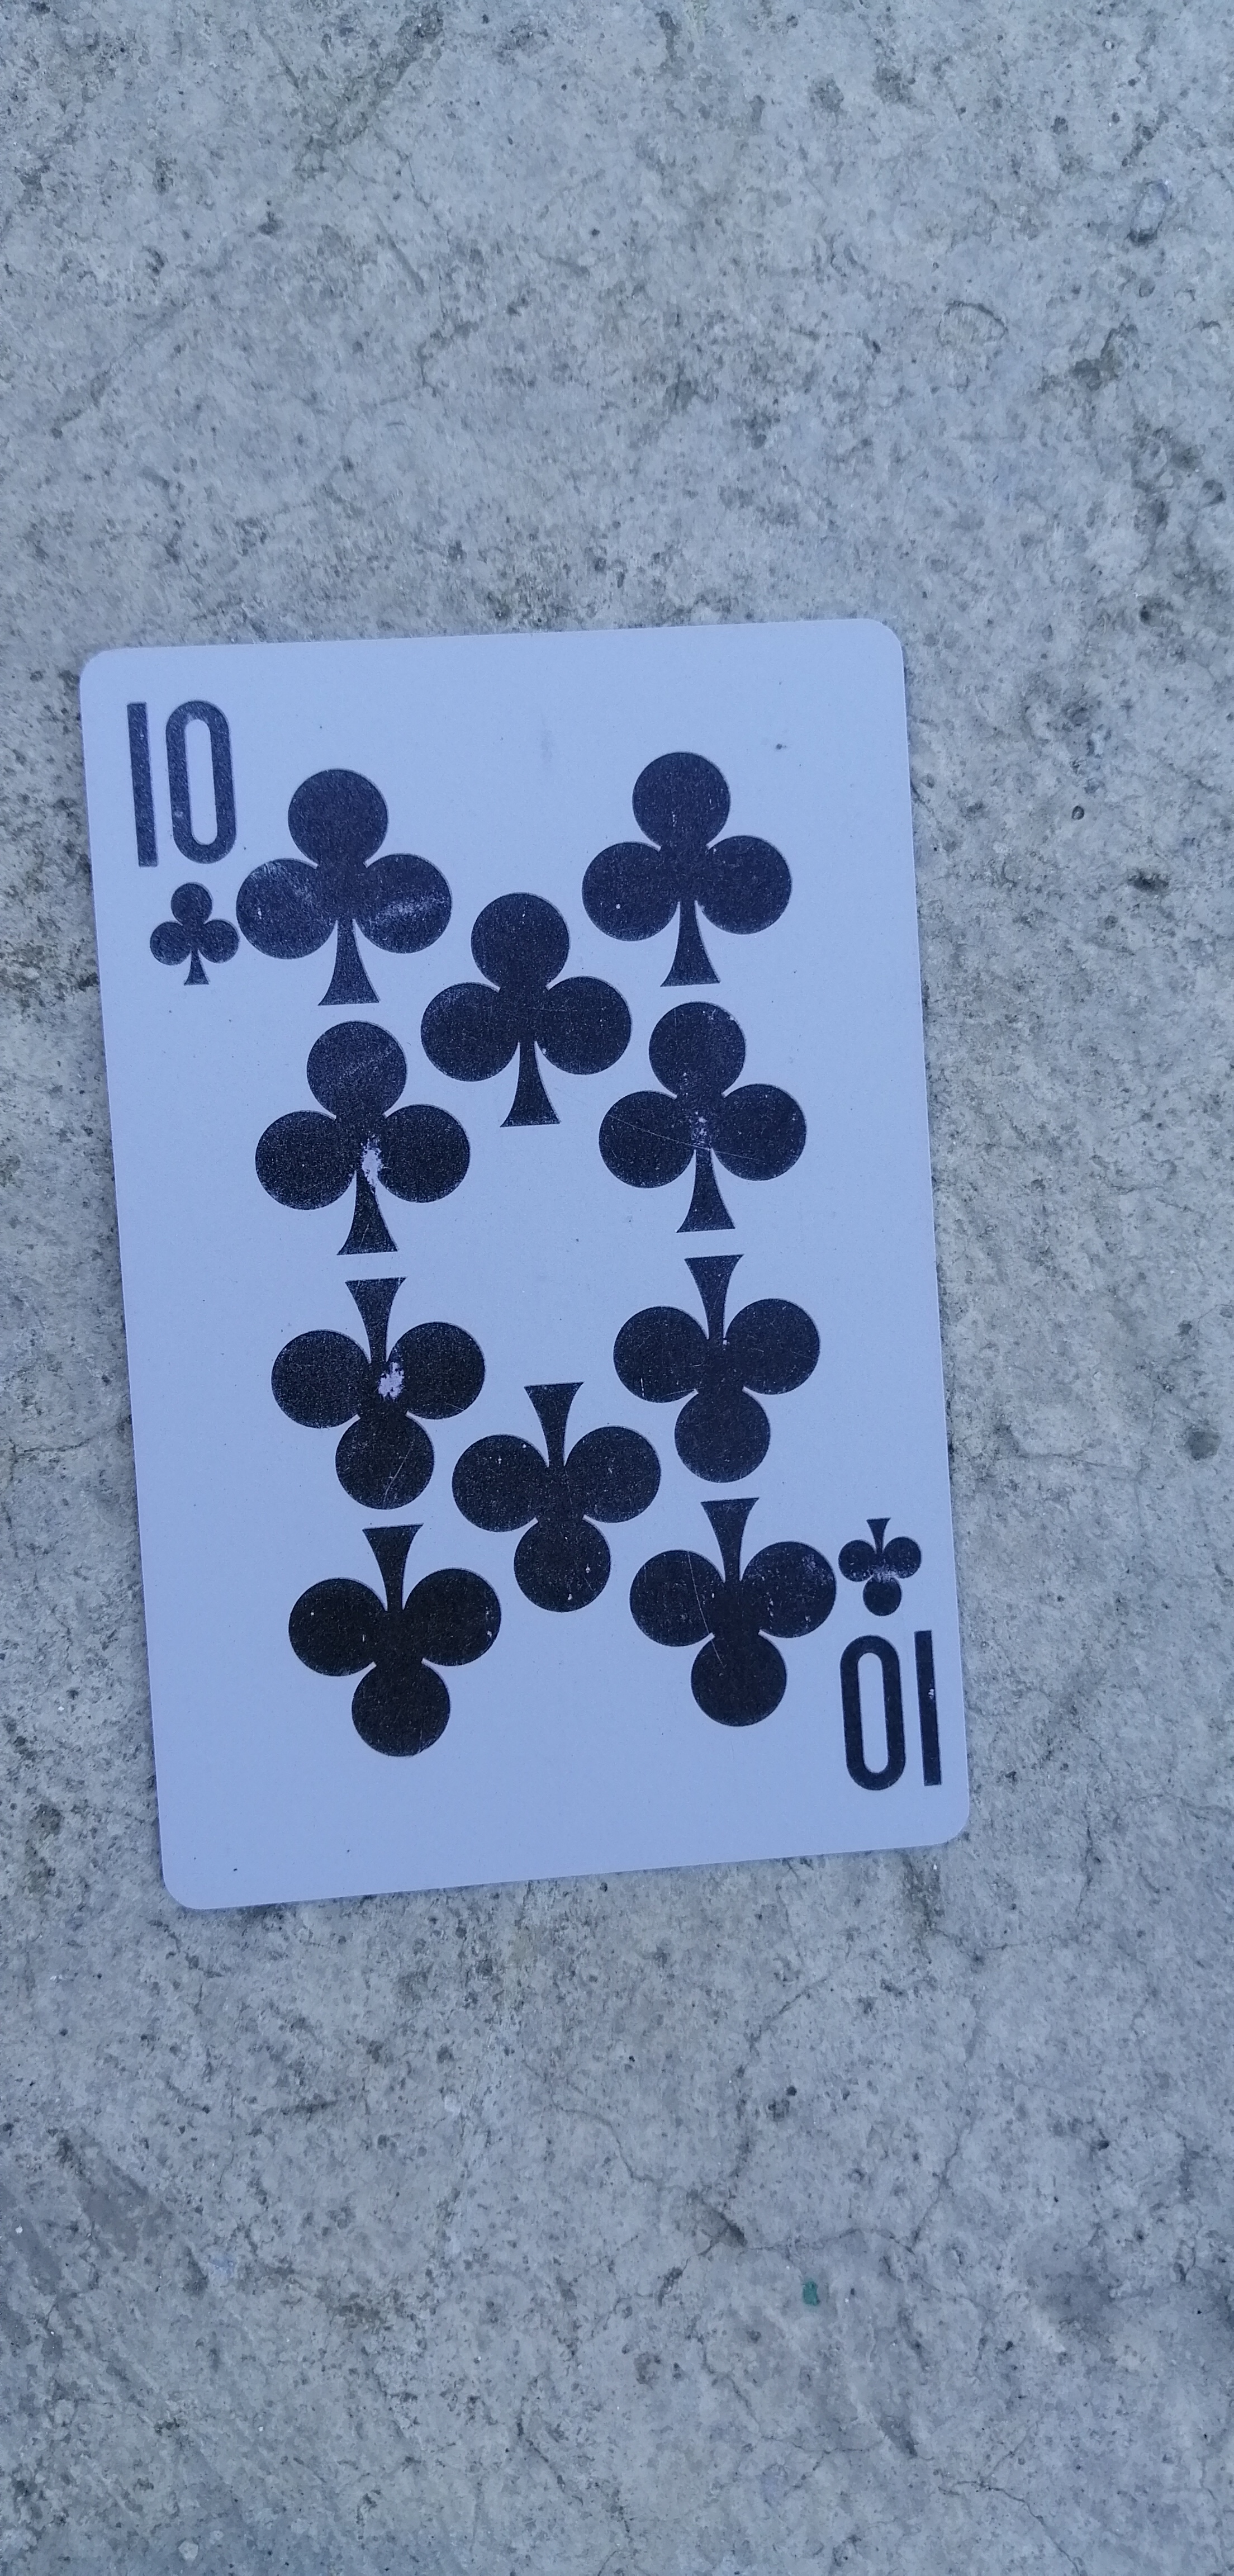ten: (72, 636, 992, 1896)
